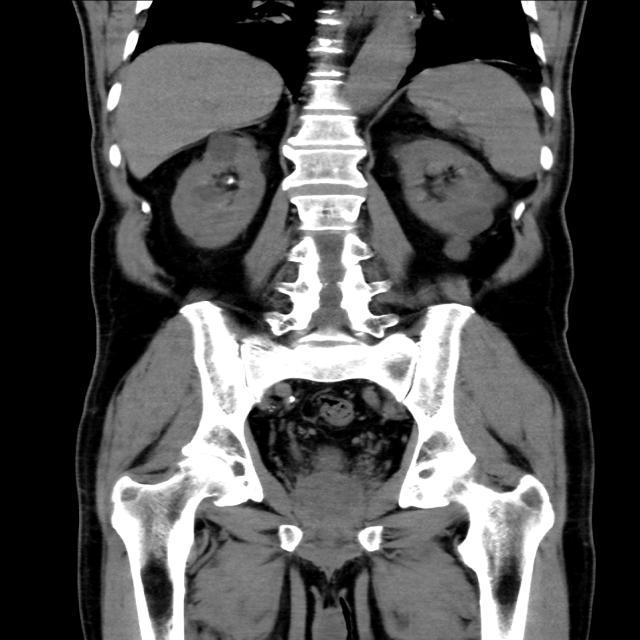kidneystone: (224, 172, 236, 188)
